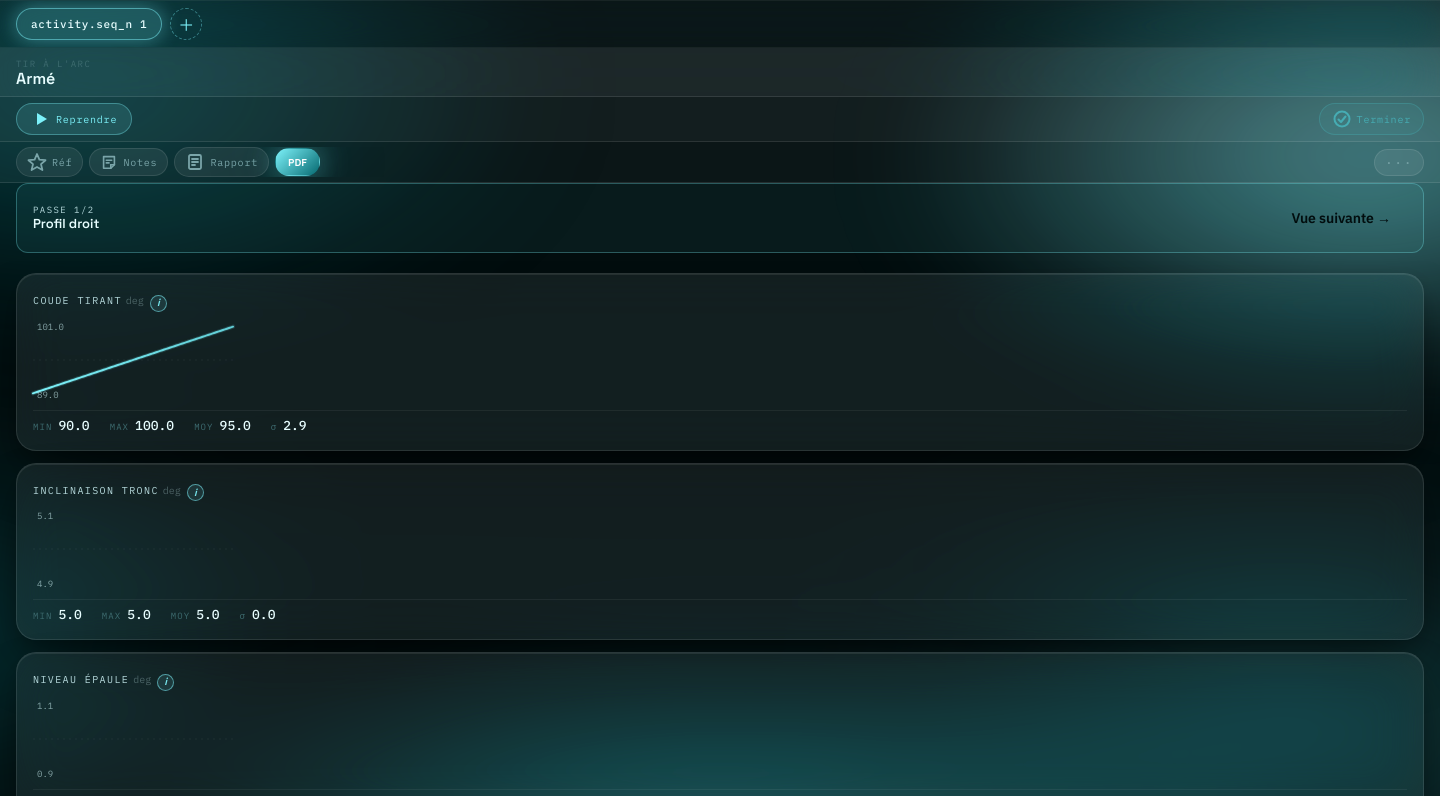
Test: DataView multi-pass banner › exposes the advance button on non-last passes and advances on click
Click the button with test id "advance-view-button".
click(1341, 218)  # box [1275, 196, 1407, 240]
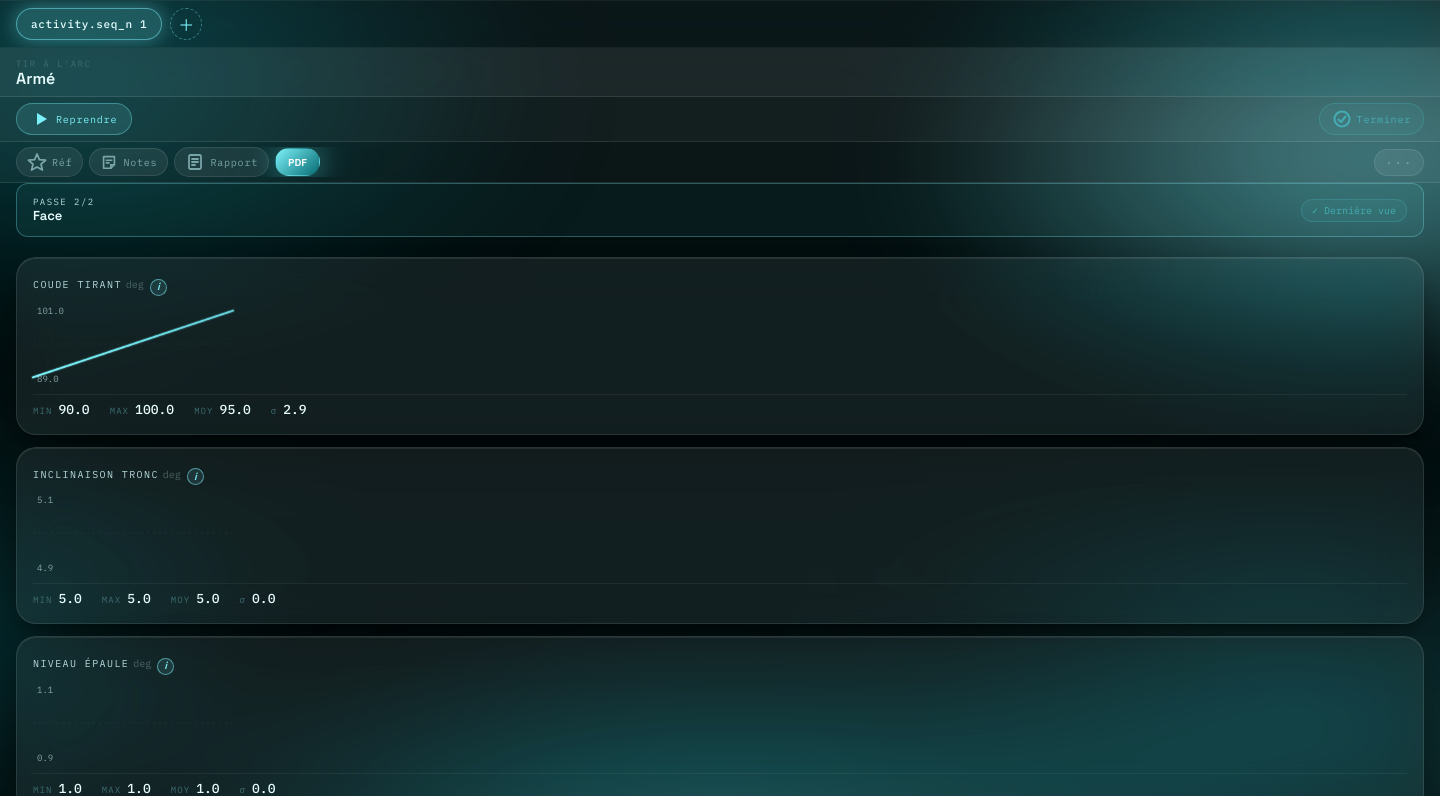
Now the element with test id "multipass-banner" shows "Passe 2/2", box [33, 196, 95, 207]
Now the button with test id "advance-view-button" is gone
Now the text "✓ Dernière vue" is shown, box [1301, 199, 1407, 222]
